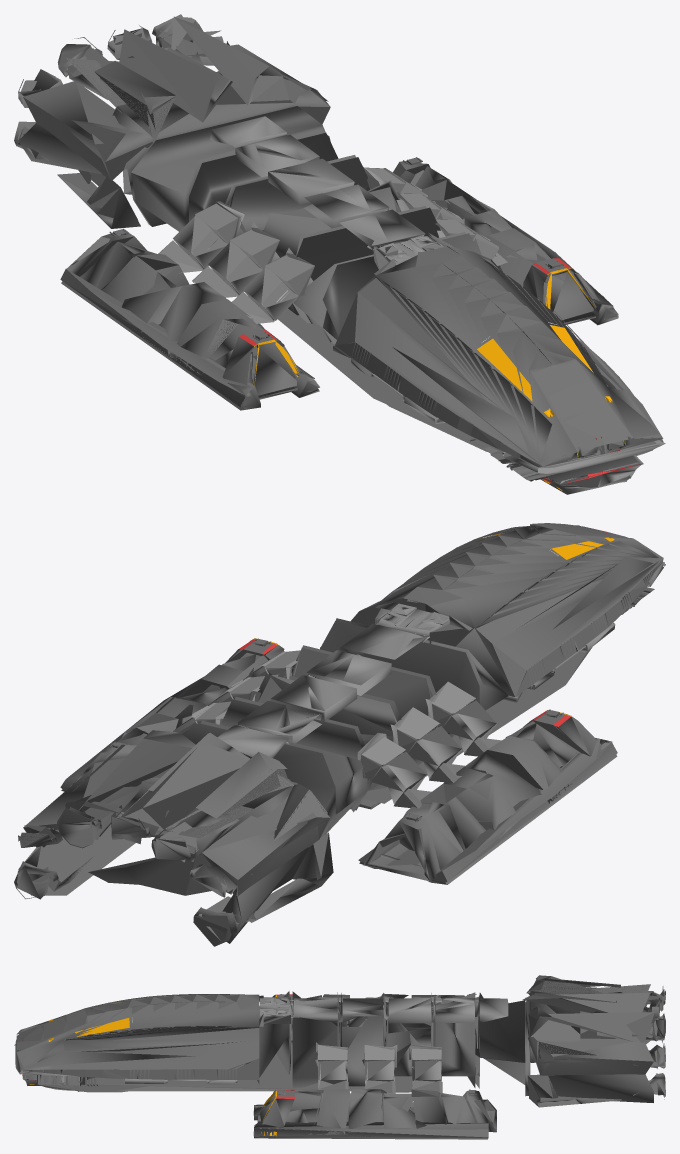
Rendered from Battlestar_Titan_WithoutCannonAndLight_AlmostOriginalLowFar.fbx.
3 renders of one model, top to bottom at view 1: azimuth 30°, elevation 25°; view 2: azimuth 150°, elevation 25°; view 3: azimuth 270°, elevation 25°, orthographic. The views are drawn at different scales.
Parts seen in each view (by area): view 1: Titan BSG Low Far.001; view 2: Titan BSG Low Far.001; view 3: Titan BSG Low Far.001.
Part boxes in pixels (x1,y1,x2,y2): Titan BSG Low Far.001: (14, 14, 665, 494); Titan BSG Low Far.001: (14, 523, 665, 946); Titan BSG Low Far.001: (14, 975, 665, 1139).
Size of the model in its own units: 1398 by 462 by 3011.
